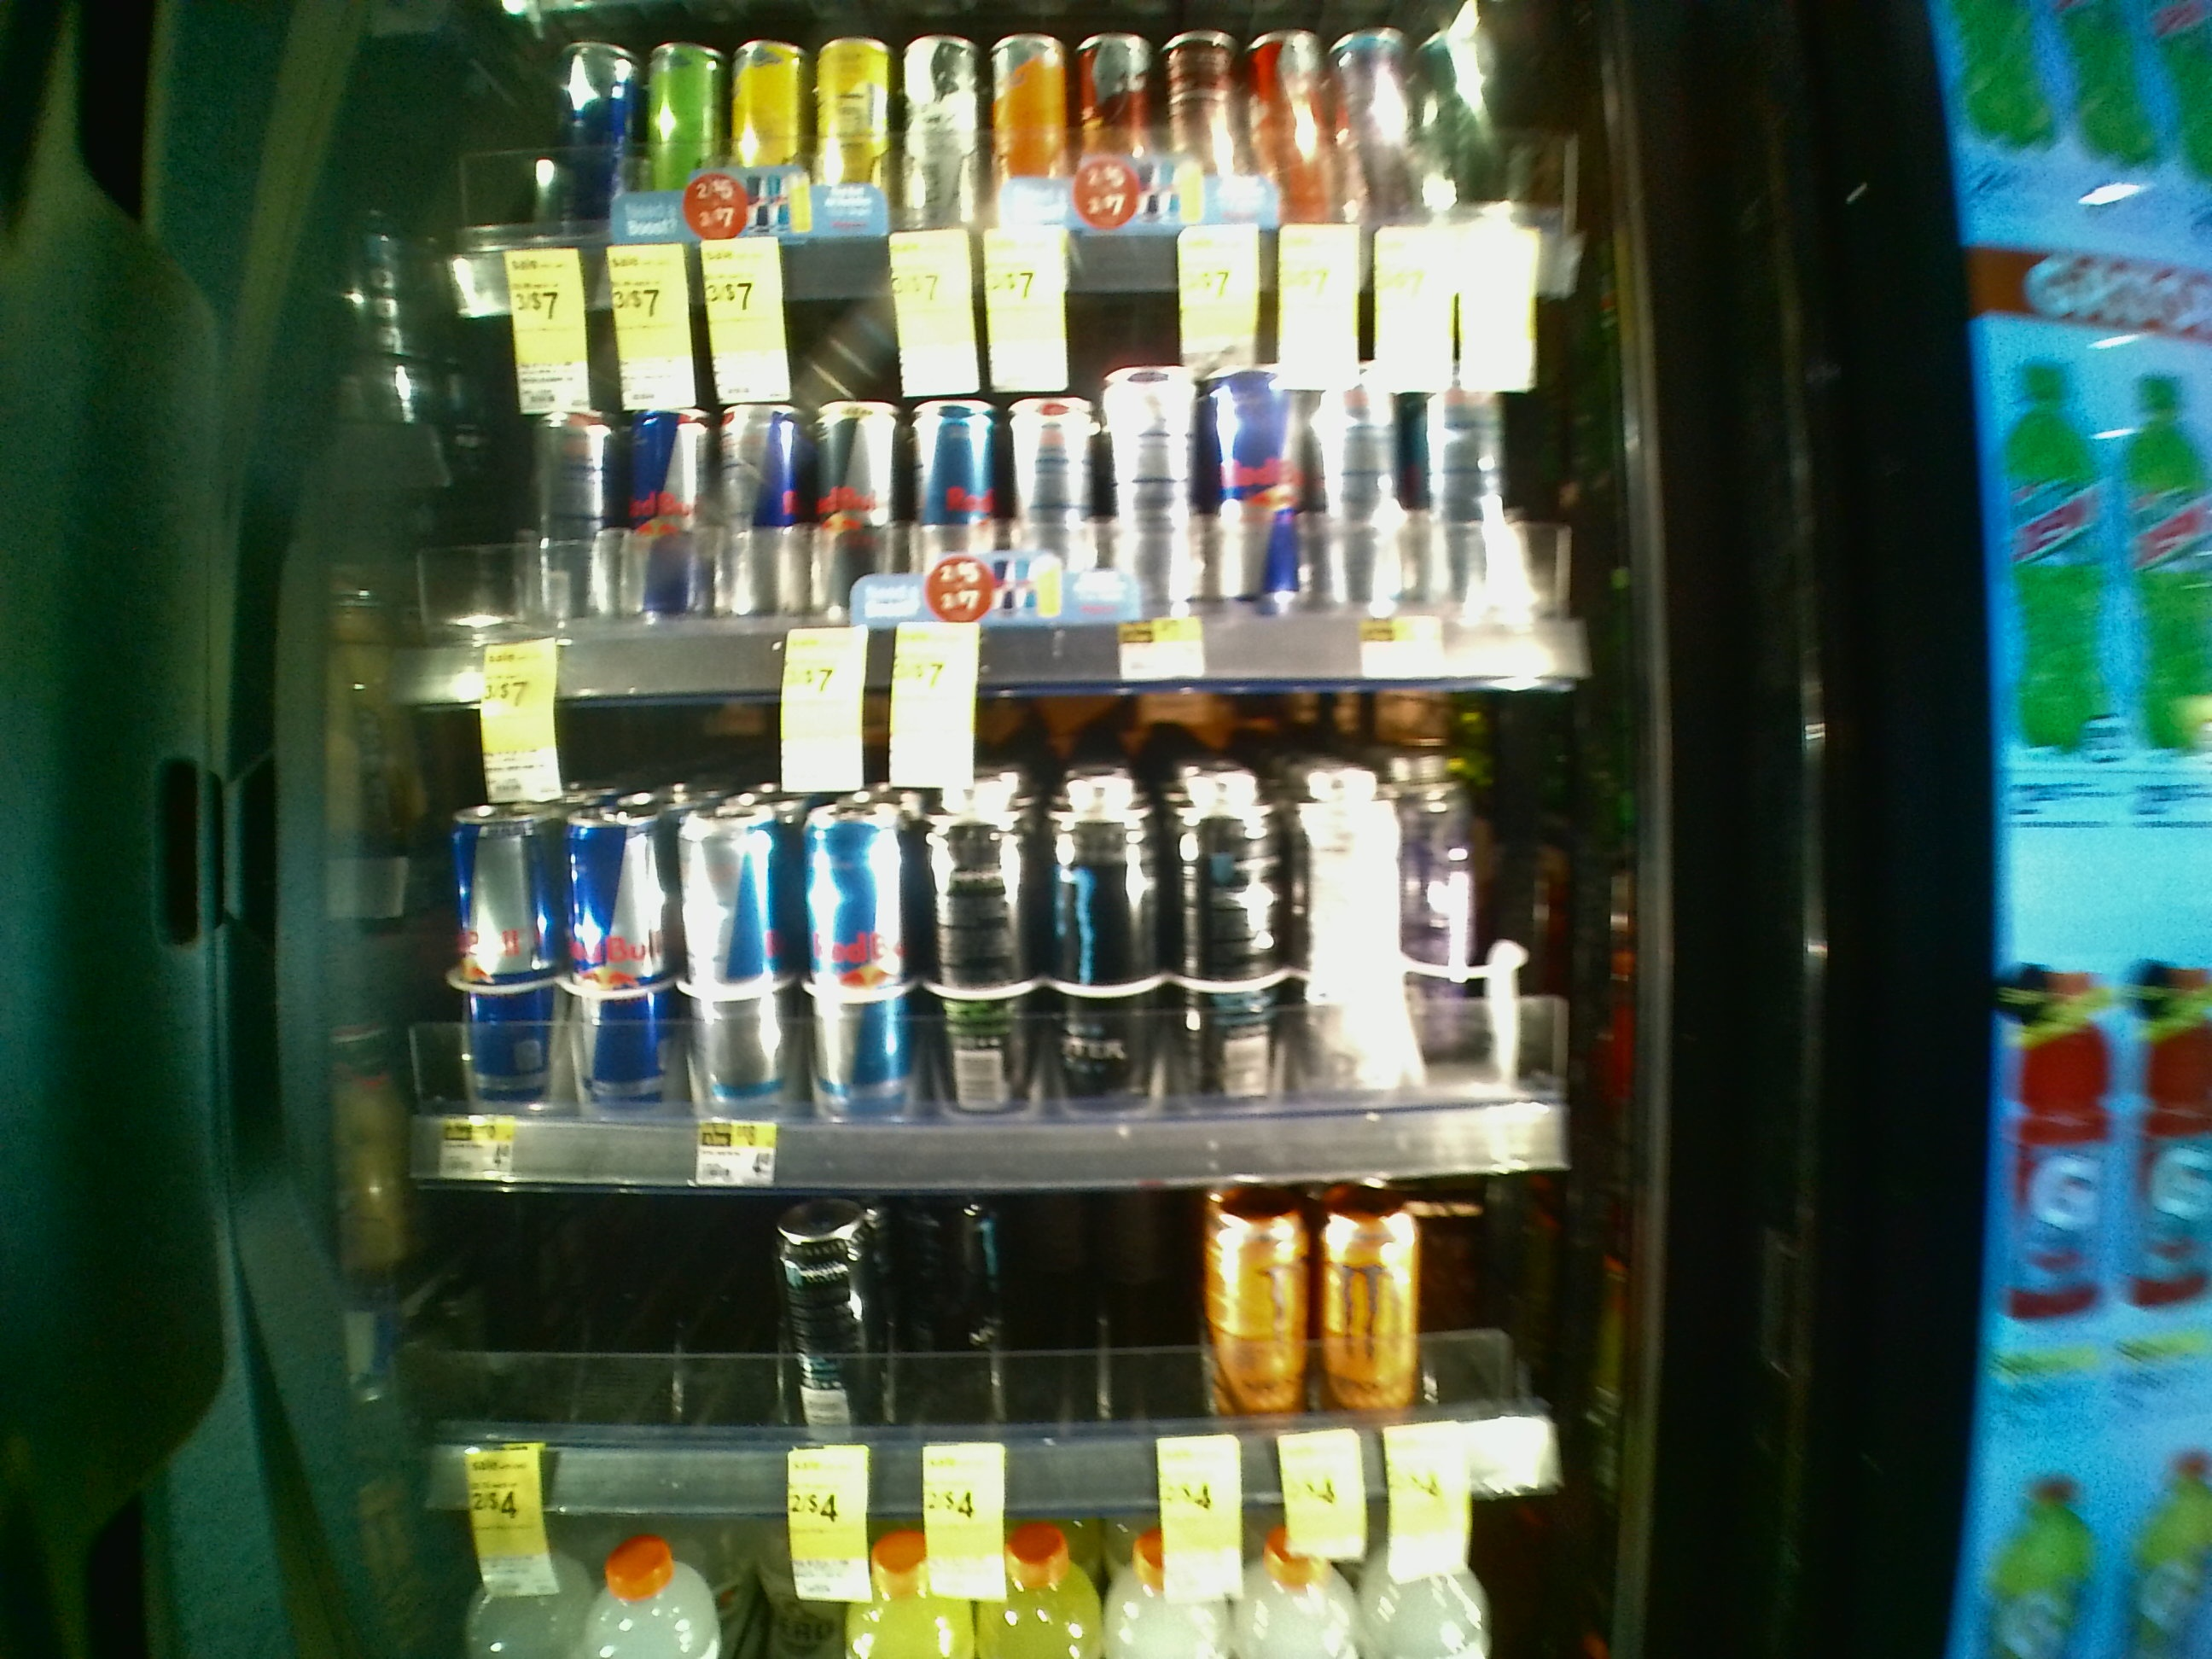shelf: (390, 687, 1649, 1175), (409, 293, 1648, 690)
